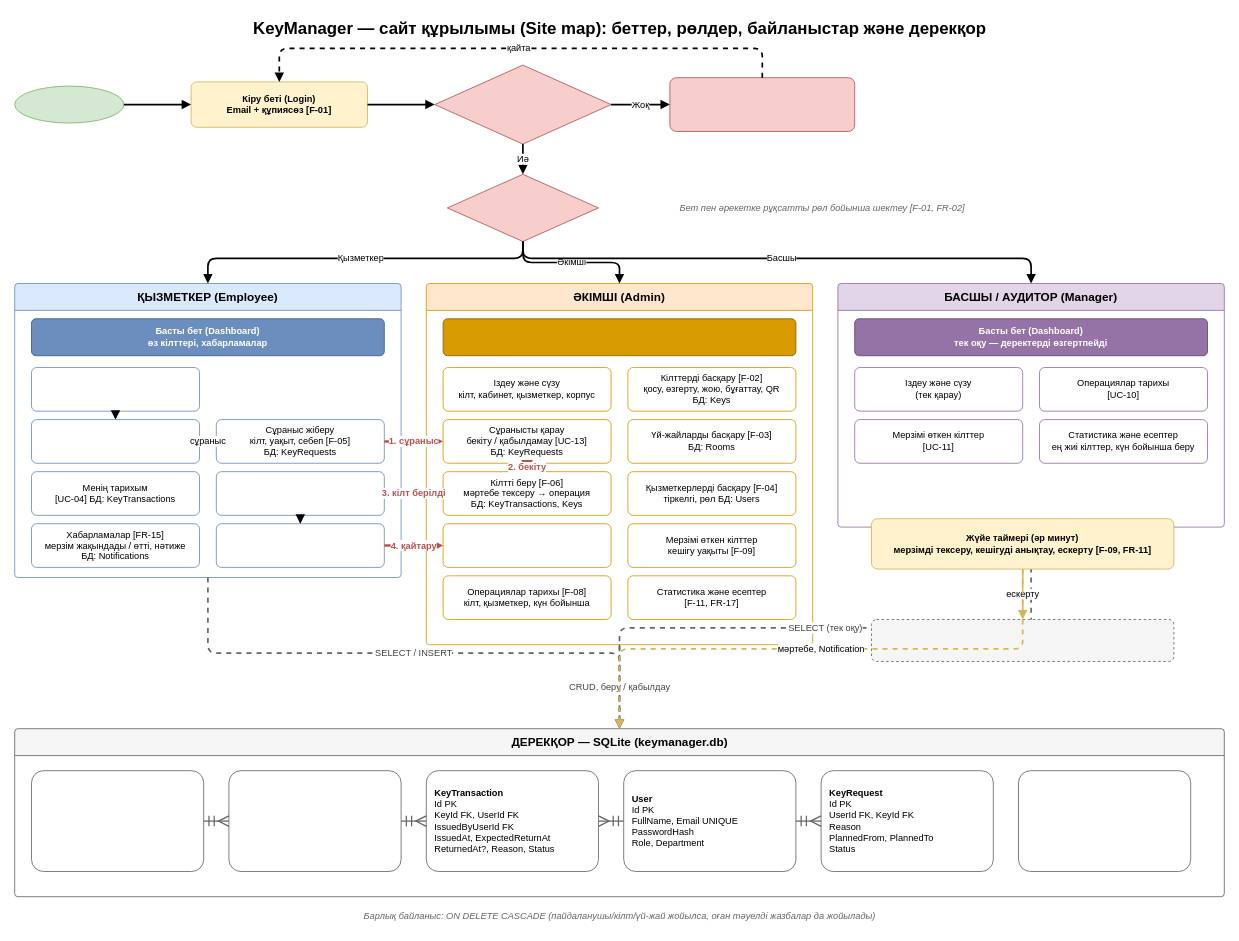
This 1239x941 diagram has some shape labels left out. Here are the shapes that lost their labels. From the top down, the centre of each, then its label:
(69,104): Пайдаланушы
(522,104): Деректер дұрыс па? Тіркелгі белсенді ме?
(762,104): «Деректер дұрыс емес» немесе тіркелгі бұғатталған (қайта енгізу)
(522,207): Рөлі қандай? (Users.Role)
(619,337): Басты бет (Dashboard) [FR-14] кілттер саны және мәртебелері
(115,389): Кілттерді іздеу және сүзу [F-10, US-01] БД: Keys, Rooms
(115,441): Кілт беті (QR арқылы да) мәртебесі, үй-жайы [FR-16]
(299,493): Менің кілттерім қайтару мерзімі [US-03] БД: KeyTransactions
(299,545): Кілтті қайтару (әкімшіге тапсыру)
(526,545): Кілтті қабылдау [F-07] ReturnedAt → «Қолжетімді»
(1022,640): Хабарлама қызметі (Email / push) сыртқы жүйе
(117,821): Room Id PK RoomNumber Name, Building Floor
(314,821): Key Id PK KeyNumber UNIQUE RoomId FK Status, QrCode
(1104,821): Notification Id PK UserId FK Message CreatedAt, IsRead
